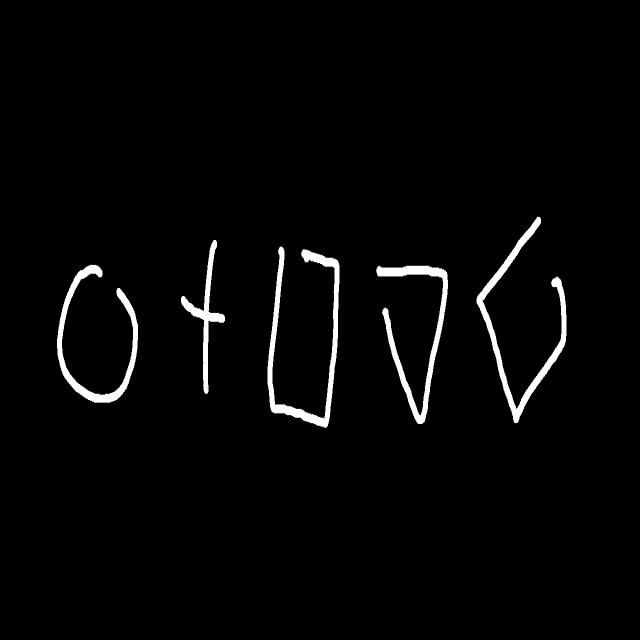Circle: (57, 265, 138, 403)
Cross: (181, 241, 225, 394)
Diamond: (476, 217, 566, 423)
Square: (268, 248, 340, 427)
Triangle: (376, 266, 448, 422)
